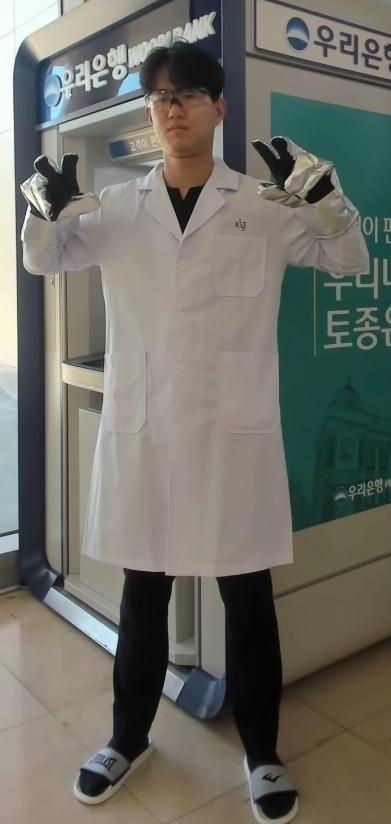lab_coat: (84, 207, 290, 565)
